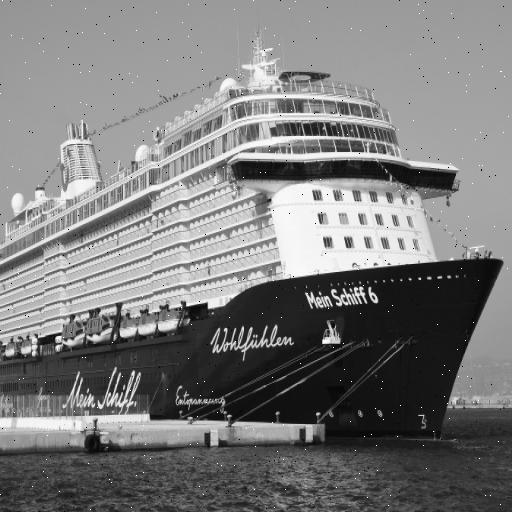cruises: (1, 27, 510, 455)
